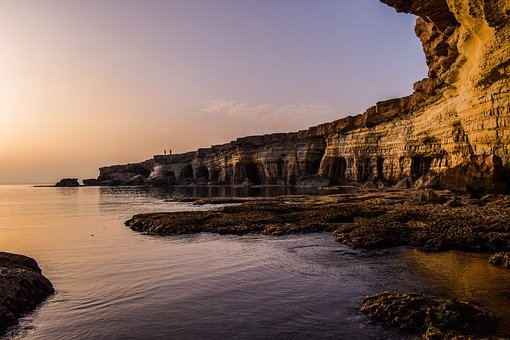mountain: (175, 59, 508, 203)
sea: (3, 187, 482, 330)
sky: (1, 3, 413, 161)
